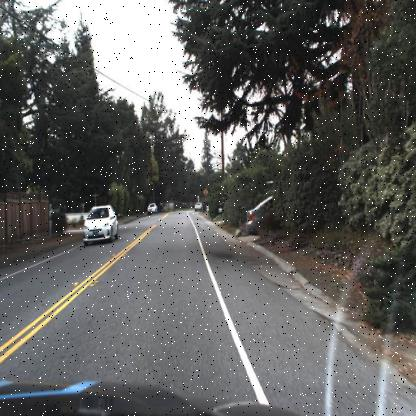car: (79, 201, 121, 245), (240, 191, 281, 235), (192, 198, 203, 212), (147, 203, 159, 215)
